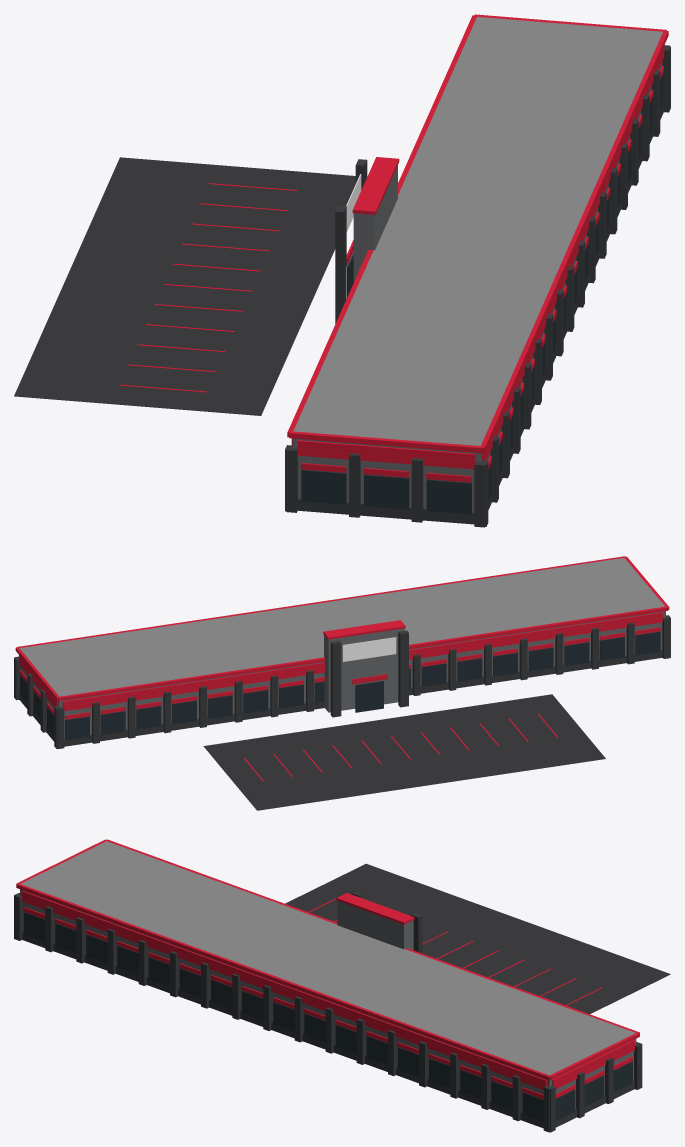
The model's file is m_wendys.glb.
3 renders of one model, top to bottom at view 1: azimuth 30°, elevation 25°; view 2: azimuth 150°, elevation 25°; view 3: azimuth 270°, elevation 25°, orthographic. The views are drawn at different scales.
Visible parts, largest first — view 1: m_wendys_lod0; view 2: m_wendys_lod0; view 3: m_wendys_lod0.
Boxes of the visible parts, box(x1,y1,x2,y2) form: m_wendys_lod0: box(14, 14, 670, 527); m_wendys_lod0: box(14, 556, 670, 810); m_wendys_lod0: box(14, 839, 670, 1132).
Size of what is drawn, in the model's own units: 50.66 by 7.2 by 52.35.
